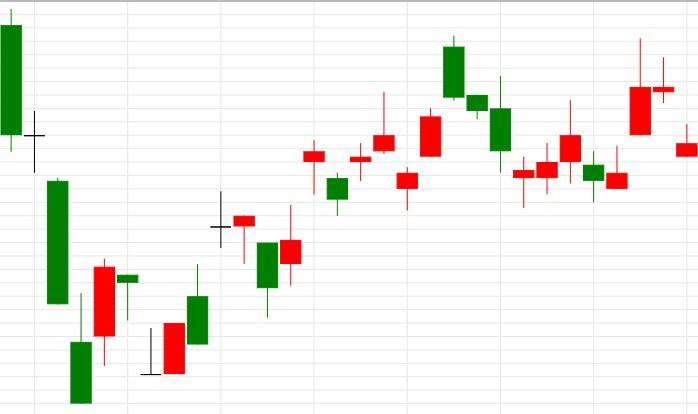inverse_hammer_rise: (559, 99, 629, 203)
three_black_crows_fall: (396, 36, 512, 210)
